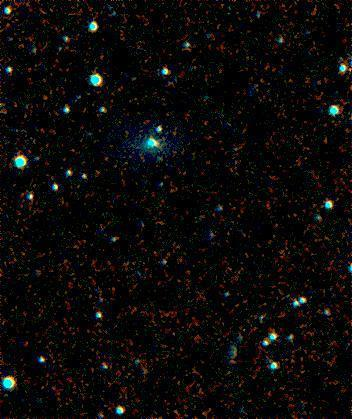star: (143, 128, 173, 158)
